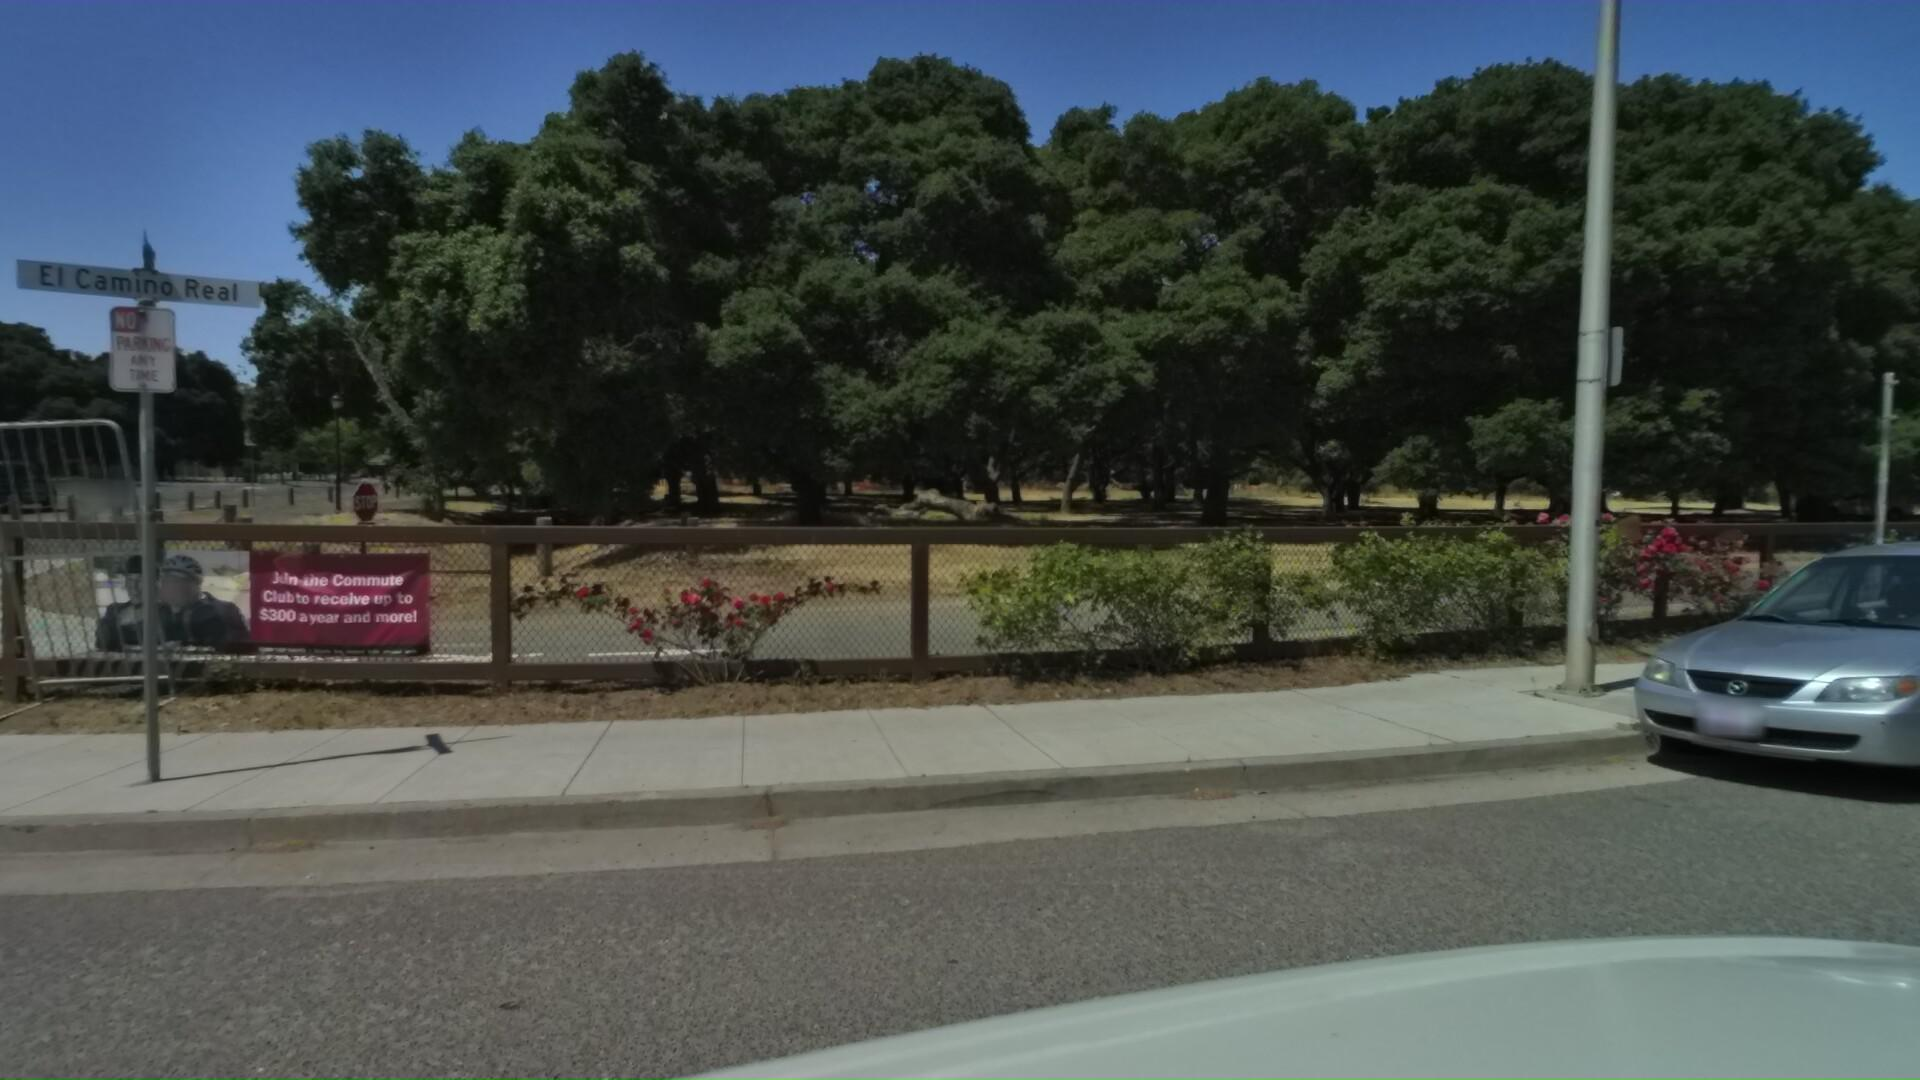car: (1588, 526, 1920, 819), (0, 460, 65, 514)
